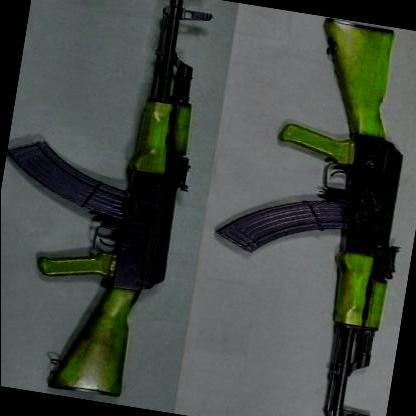rifle: (189, 4, 416, 416), (0, 0, 229, 403)
